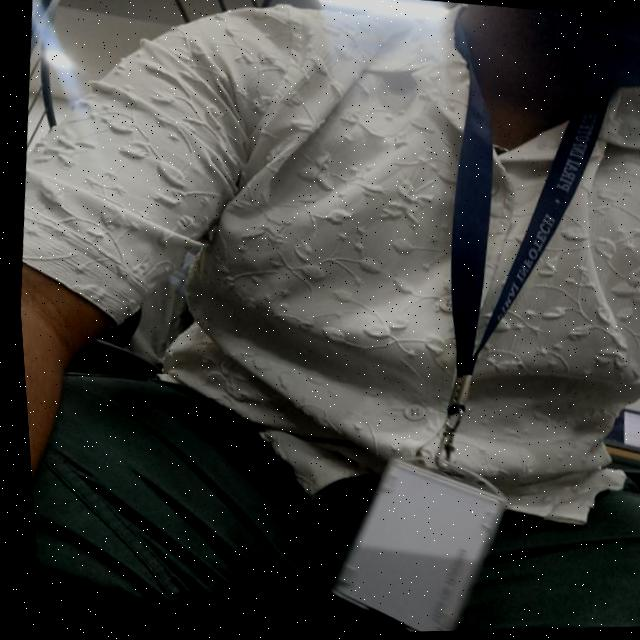id_card: (287, 11, 640, 635)
